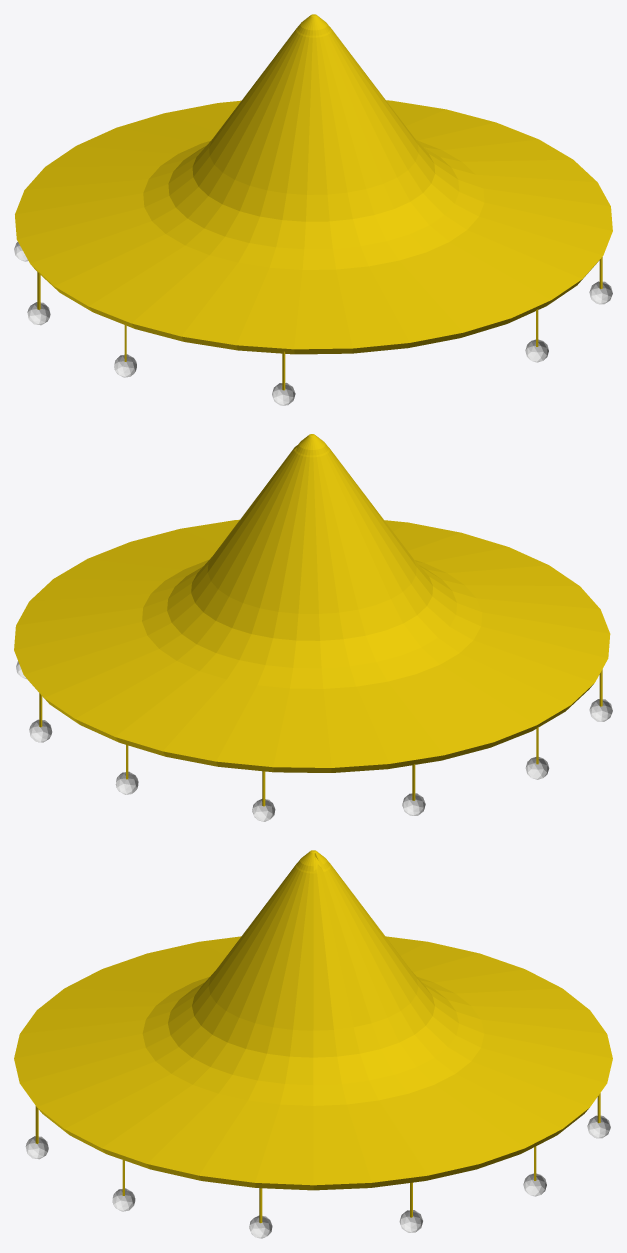
The model's file is hat_sombrero.glb.
3 renders of one model, top to bottom at view 1: azimuth 30°, elevation 25°; view 2: azimuth 150°, elevation 25°; view 3: azimuth 270°, elevation 25°, orthographic.
Visible parts, largest first — view 1: Circle_1, Circle_2; view 2: Circle_1, Circle_2; view 3: Circle_1, Circle_2.
Boxes of the visible parts, x1=… form: Circle_1: x1=15, y1=14, x2=612, y2=390; Circle_2: x1=14, y1=242, x2=612, y2=405; Circle_1: x1=14, y1=434, x2=610, y2=806; Circle_2: x1=16, y1=661, x2=612, y2=821; Circle_1: x1=14, y1=850, x2=612, y2=1223; Circle_2: x1=25, y1=1115, x2=610, y2=1238.
Size of the model in its own units: 3.73 by 1.82 by 3.72.
